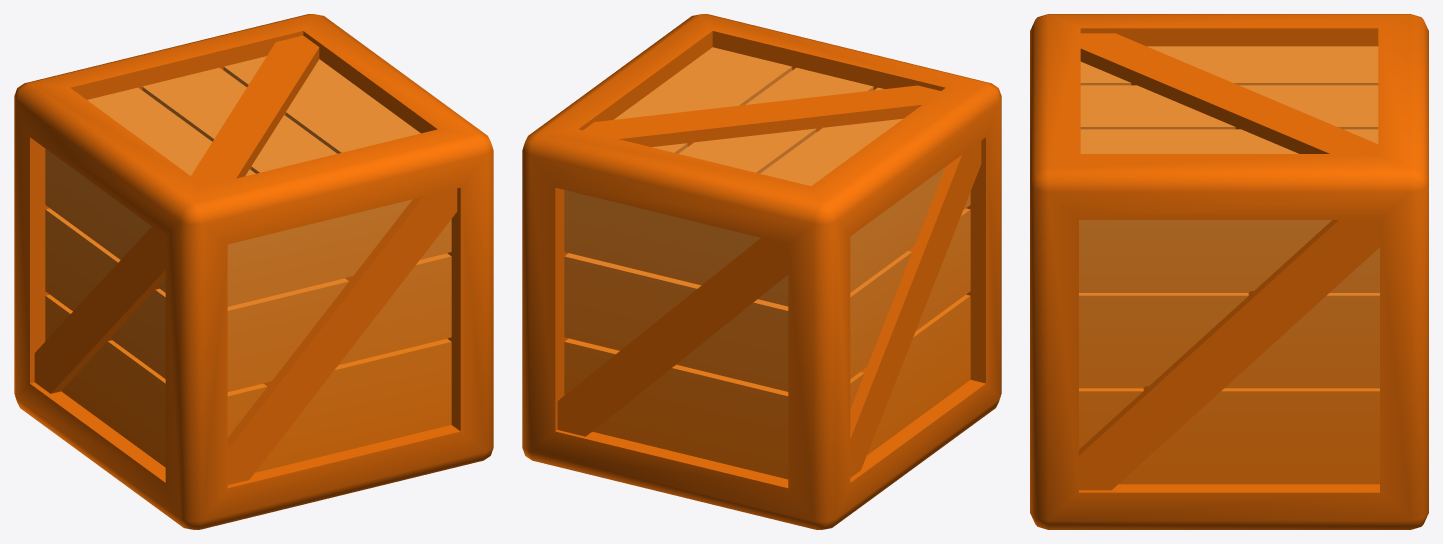
File: Prop_Crate_02.fbx
3 views of the same model, side by side, from view 1: azimuth 30°, elevation 25°; view 2: azimuth 150°, elevation 25°; view 3: azimuth 270°, elevation 25° (orthographic). The views are drawn at different scales.
Parts seen in each view (by area): view 1: Prop_Crate_02; view 2: Prop_Crate_02; view 3: Prop_Crate_02.
Boxes of the visible parts, x1,y1,x2,y2 form: Prop_Crate_02: [14, 14, 493, 529]; Prop_Crate_02: [522, 14, 1001, 529]; Prop_Crate_02: [1030, 14, 1428, 529].
Size of the model in its own units: 119 by 119 by 119.
